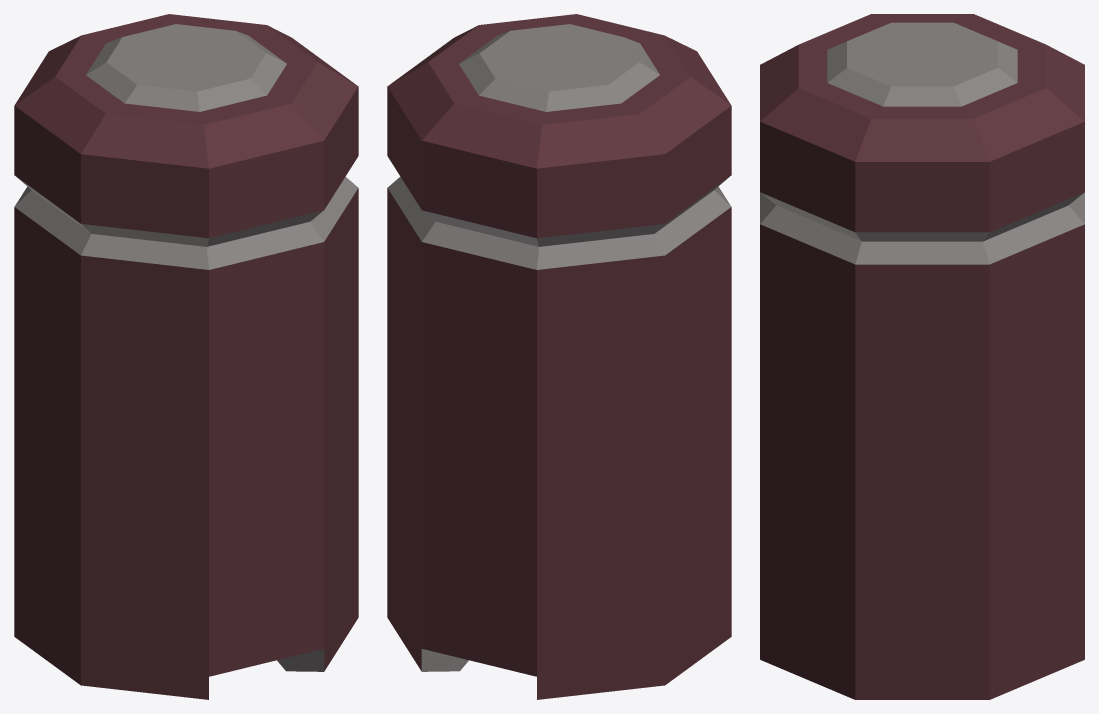
File: scifi-vial.fbx
3 views of the same model, side by side, from view 1: azimuth 30°, elevation 25°; view 2: azimuth 150°, elevation 25°; view 3: azimuth 270°, elevation 25° (orthographic).
Visible parts, largest first — view 1: scifi-vial; view 2: scifi-vial; view 3: scifi-vial.
Part boxes in pixels (<box>): scifi-vial: <box>14,14,358,699</box>; scifi-vial: <box>387,14,731,699</box>; scifi-vial: <box>760,14,1084,699</box>.
Size of the model in its own units: 0.5 by 1 by 0.5.
